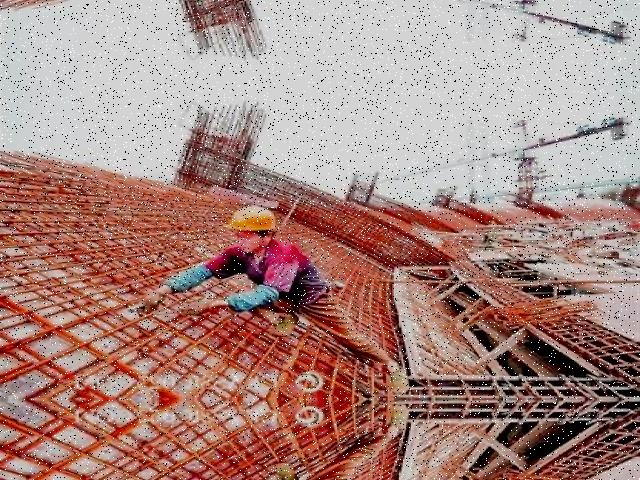Helmet: (224, 202, 282, 239)
